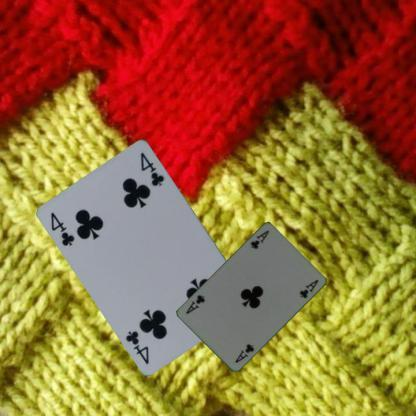4c: (48, 210, 76, 248)
Ac: (233, 340, 256, 364), (248, 227, 270, 250)
